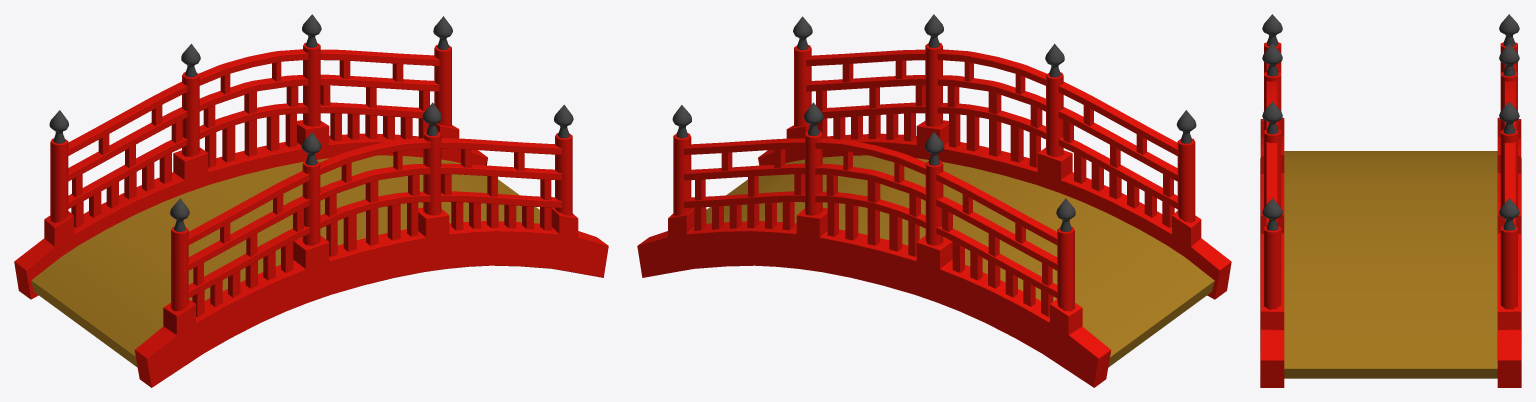
The model's file is OrientalBridge.fbx.
3 renders of one model, left to right at view 1: azimuth 30°, elevation 25°; view 2: azimuth 150°, elevation 25°; view 3: azimuth 270°, elevation 25°, orthographic.
Parts seen in each view (by area): view 1: OrientalBridge; view 2: OrientalBridge; view 3: OrientalBridge.
Part boxes in pixels (x1,y1,x2,y2): OrientalBridge: (14, 14, 608, 387); OrientalBridge: (637, 14, 1231, 387); OrientalBridge: (1260, 14, 1521, 387).
Bounding box in the file's own units: 8 × 3.5 × 3.99.
